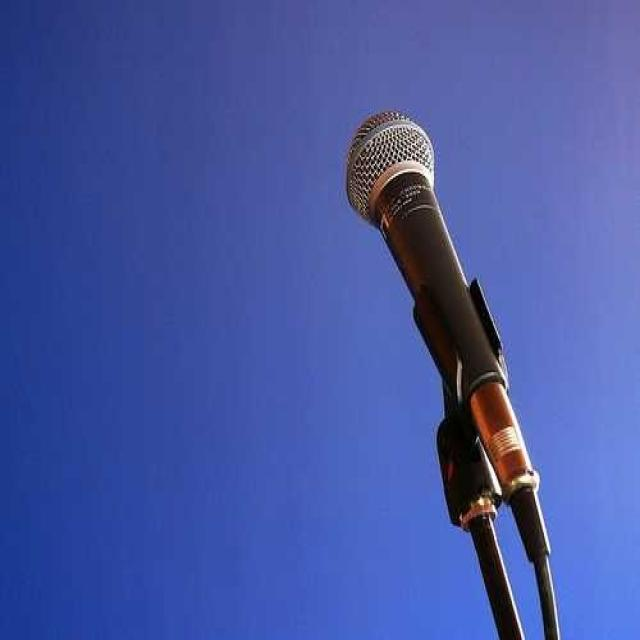microphone: (348, 109, 576, 485)
